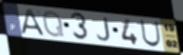3: (69, 12, 90, 42)
4: (121, 17, 139, 46)
A: (20, 8, 46, 37)
J: (96, 17, 112, 42)
Q: (42, 10, 66, 39)
U: (139, 19, 163, 49)
